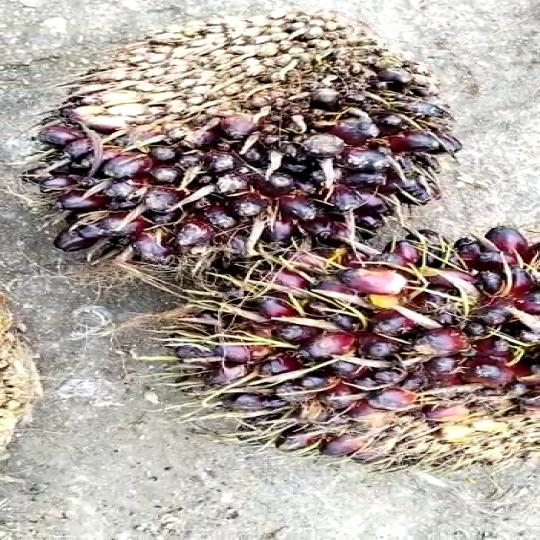kurang masak: (19, 6, 473, 264), (166, 228, 540, 481)
